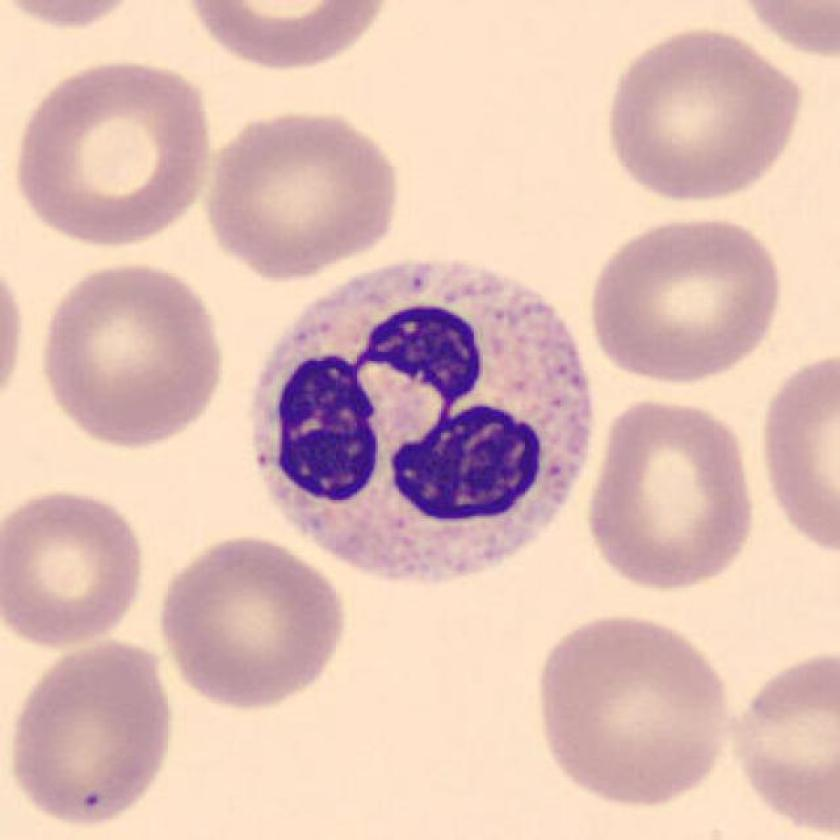neutrophil: (252, 257, 588, 581)
